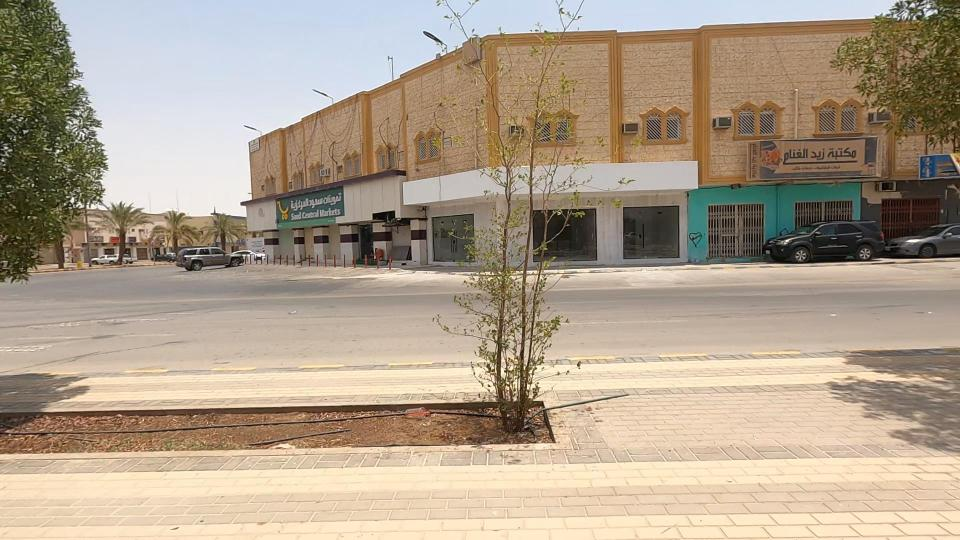CLUTTER_SIDEWALK: (0, 360, 597, 483)
